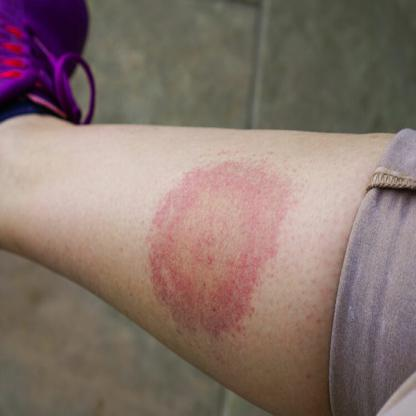Tick: (145, 152, 289, 345)
